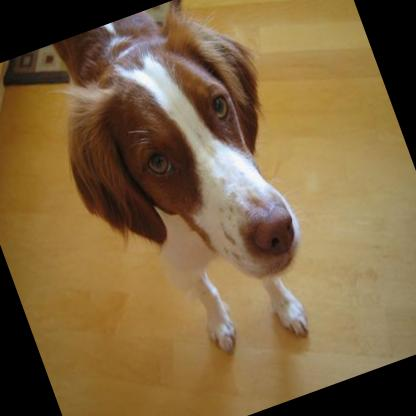Brittany_spaniel: (24, 0, 348, 393)
